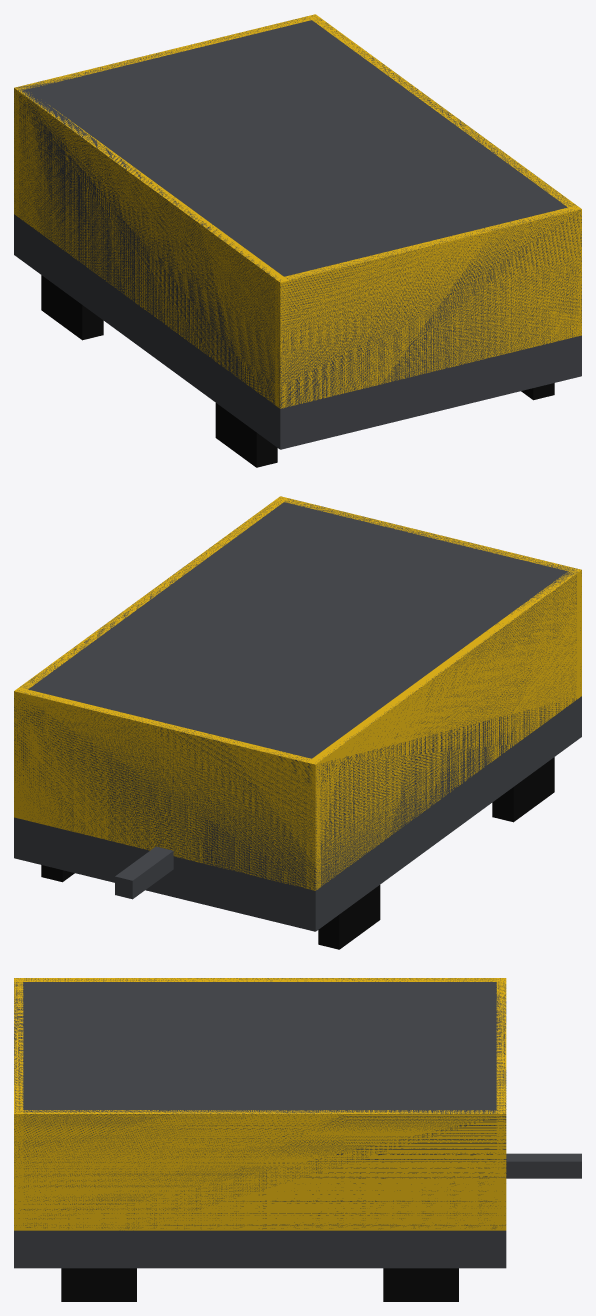
File: bne_gse_cart_yellow.dae
The picture shows the model from 3 angles, top to bottom: view 1: azimuth 30°, elevation 25°; view 2: azimuth 150°, elevation 25°; view 3: azimuth 270°, elevation 25°; orthographic projection. The views are drawn at different scales.
Parts seen in each view (by area): view 1: Colmesh_bne_gse_cart_yellow-1, bne_gse_cart_yellow160, bne_gse_cart_yellow16; view 2: Colmesh_bne_gse_cart_yellow-1, bne_gse_cart_yellow160, bne_gse_cart_yellow16; view 3: Colmesh_bne_gse_cart_yellow-1, bne_gse_cart_yellow160, bne_gse_cart_yellow16.
Boxes of the visible parts, x1,y1,x2,y2 form: Colmesh_bne_gse_cart_yellow-1: [14, 15, 581, 449]; bne_gse_cart_yellow160: [14, 14, 581, 452]; bne_gse_cart_yellow16: [41, 275, 554, 467]; Colmesh_bne_gse_cart_yellow-1: [14, 496, 581, 931]; bne_gse_cart_yellow160: [14, 496, 581, 934]; bne_gse_cart_yellow16: [41, 757, 554, 949]; Colmesh_bne_gse_cart_yellow-1: [14, 978, 506, 1268]; bne_gse_cart_yellow160: [14, 978, 581, 1301]; bne_gse_cart_yellow16: [61, 1268, 458, 1301].
Size of the model in its own units: 1.7 by 3 by 1.1.
